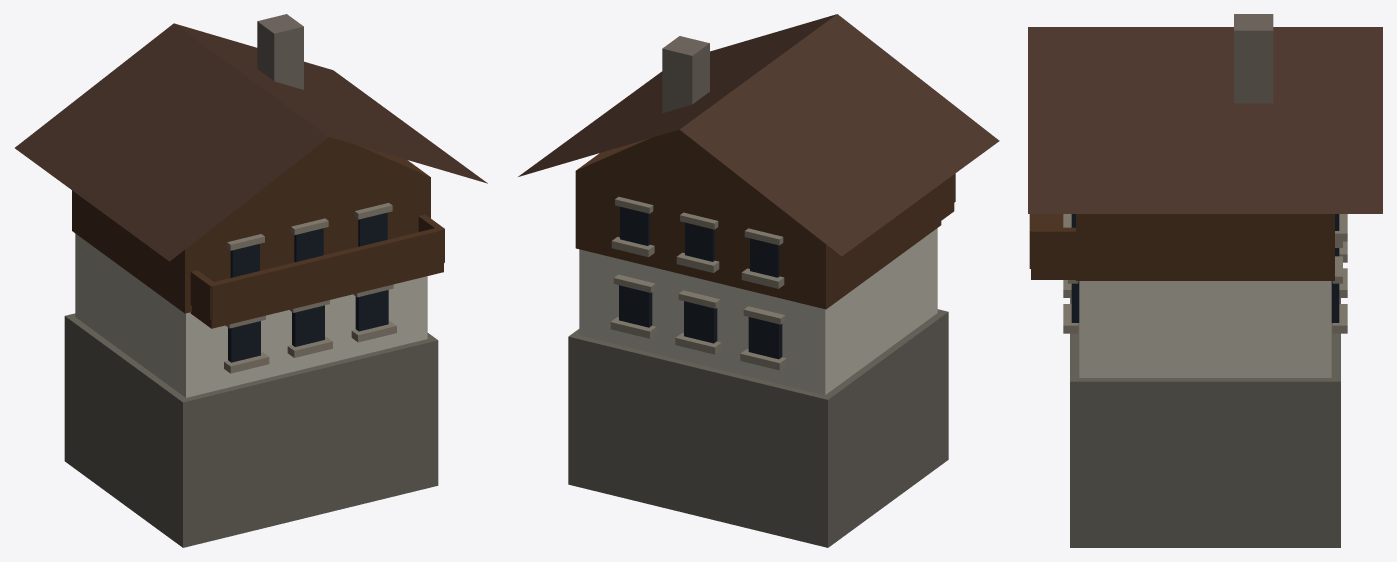
Rendered from bldg_alpine_chalet.glb.
3 renders of one model, left to right at view 1: azimuth 30°, elevation 25°; view 2: azimuth 150°, elevation 25°; view 3: azimuth 270°, elevation 25°, orthographic. The views are drawn at different scales.
Visible parts, largest first — view 1: AlpineChalet; view 2: AlpineChalet; view 3: AlpineChalet.
Part boxes in pixels (x1,y1,x2,y2): AlpineChalet: [15, 14, 487, 547]; AlpineChalet: [518, 14, 999, 547]; AlpineChalet: [1028, 14, 1382, 547].
Bounding box in the file's own units: 1.4 × 1.77 × 1.18.
